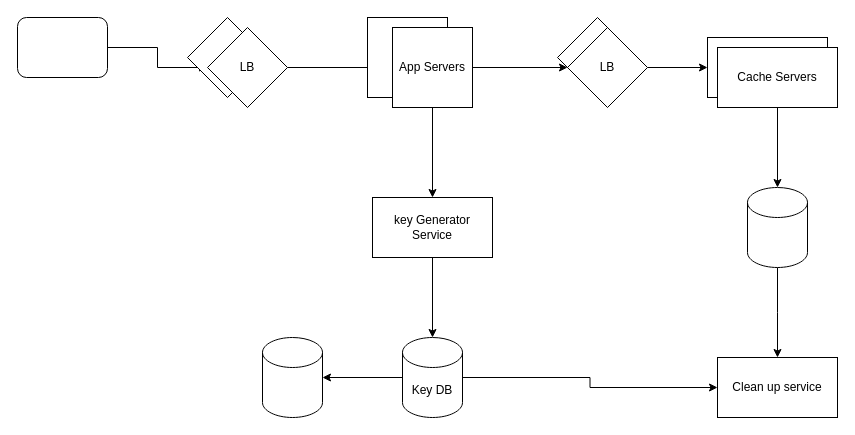
The diagram is 855 pixels wide and 435 high, and some of its shapes have lost their labels. Here are the shapes that lost their labels. From the top down, the centre of each, then its label:
At [62,47]: "Client".
At [777,227]: "DB servers".
At [292,377]: "Key DB backup".
